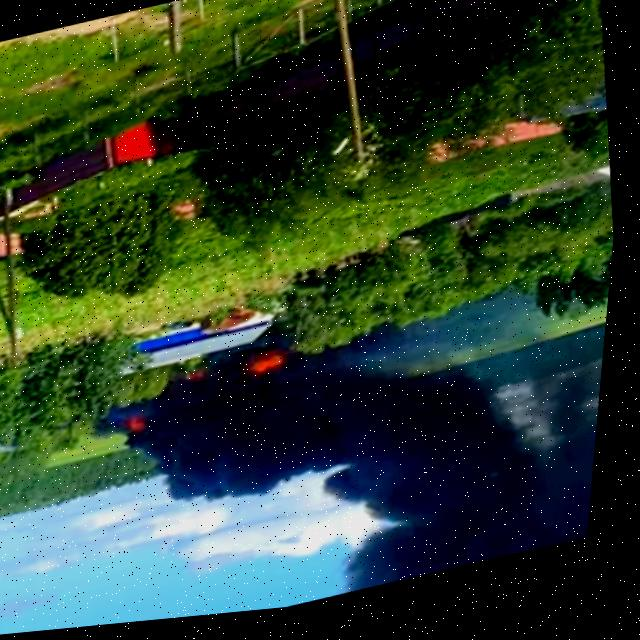Smoke: (72, 266, 618, 631)
